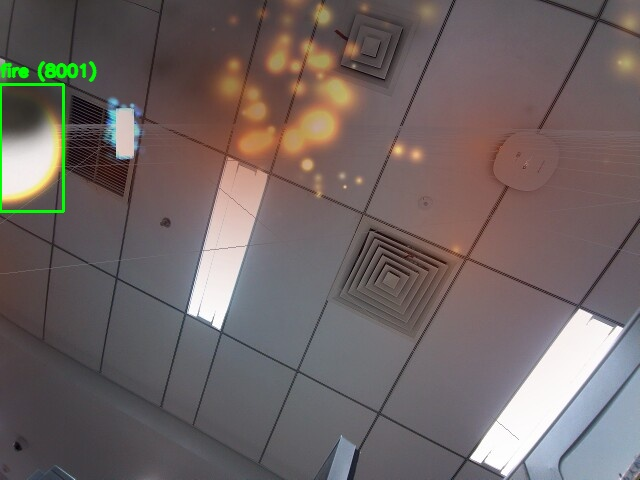fire: (0, 84, 63, 211)
